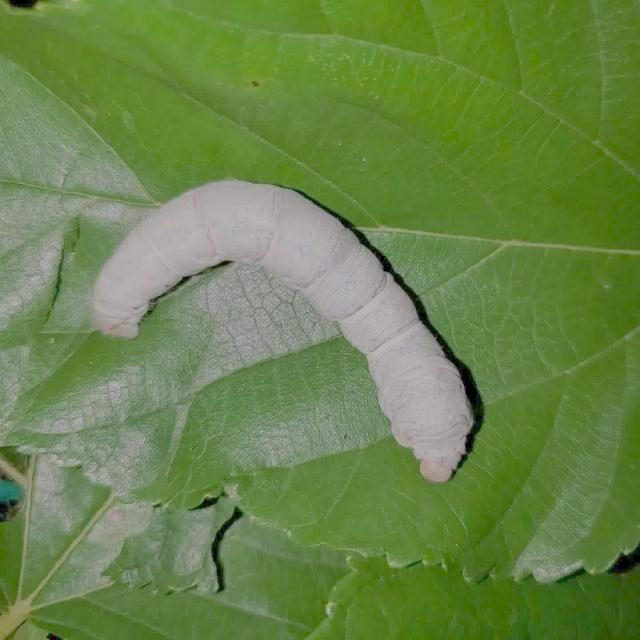Healthy: (70, 144, 507, 503)
